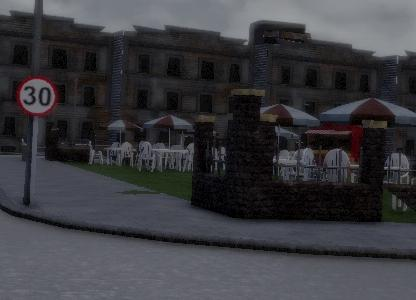Speed_30: (15, 73, 59, 119)
